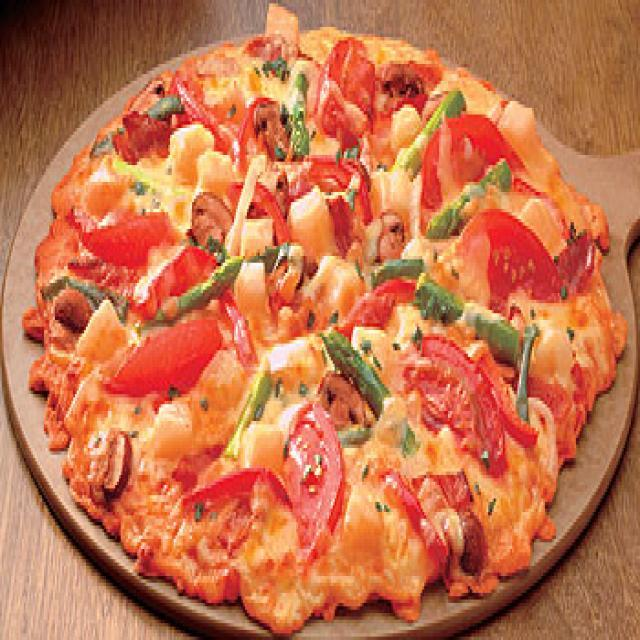Pizza: (31, 21, 626, 621)
